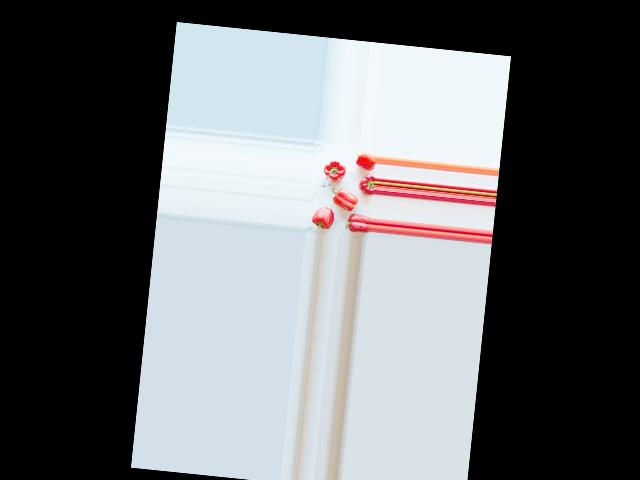bell_pepper: (356, 173, 374, 196)
